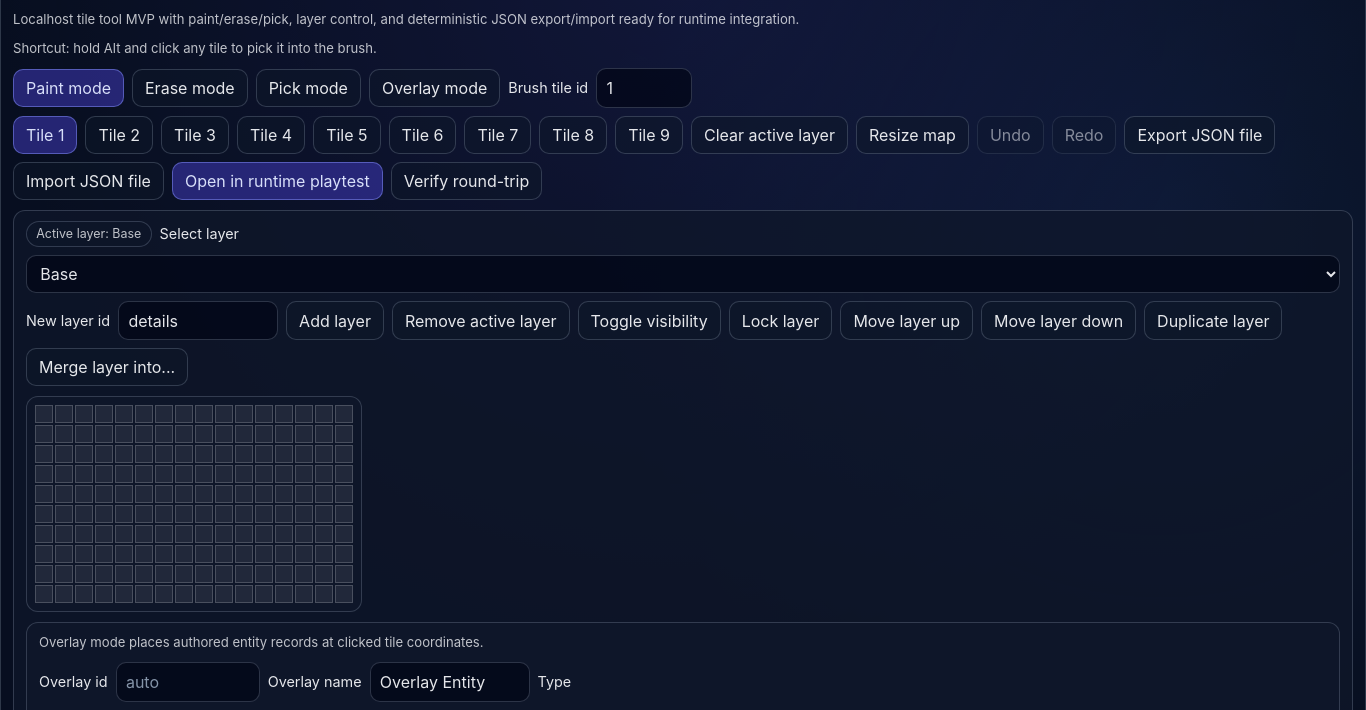
Test: TileMapPlacementToolExample › adds and removes beforeunload guard based on dirty state
The image size is (1366, 710).
Click the button named "Tile (0, 0)": (44, 414) [35, 405, 53, 423]
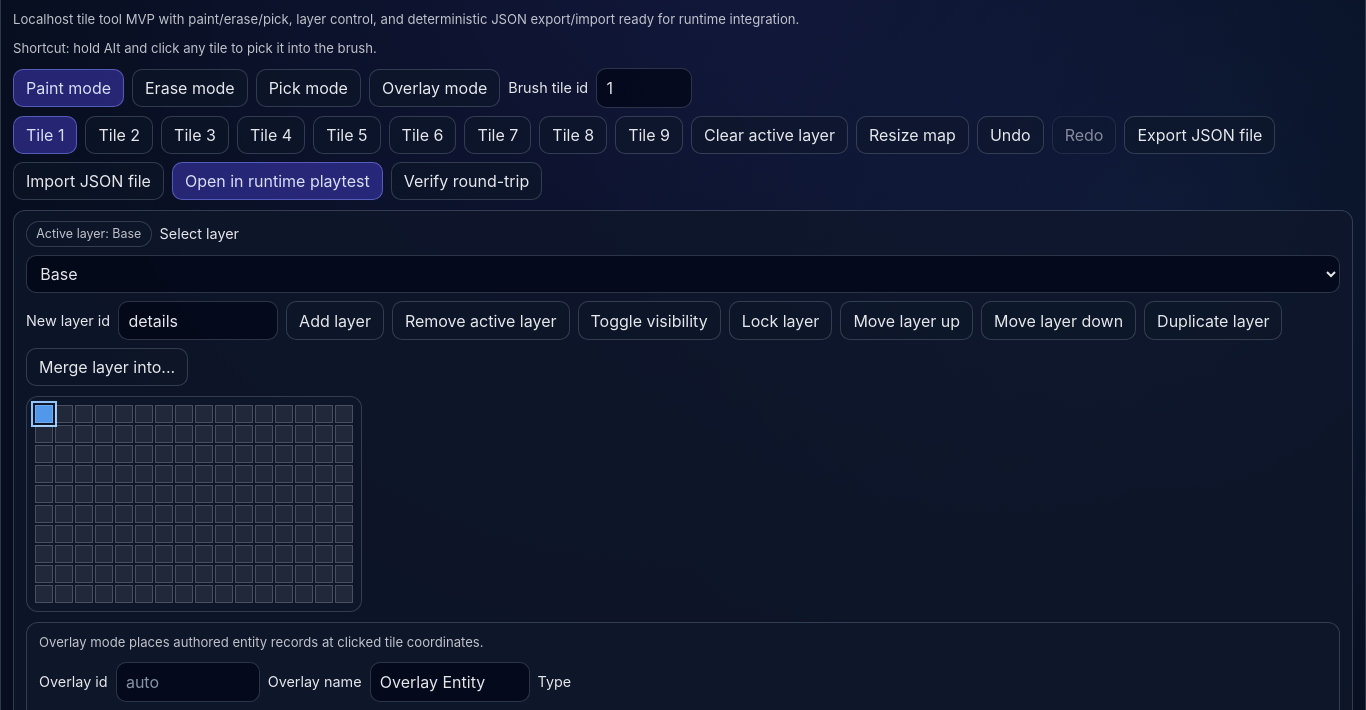
Click the button "Undo": (1010, 135) [977, 116, 1044, 154]
(page scrolled)
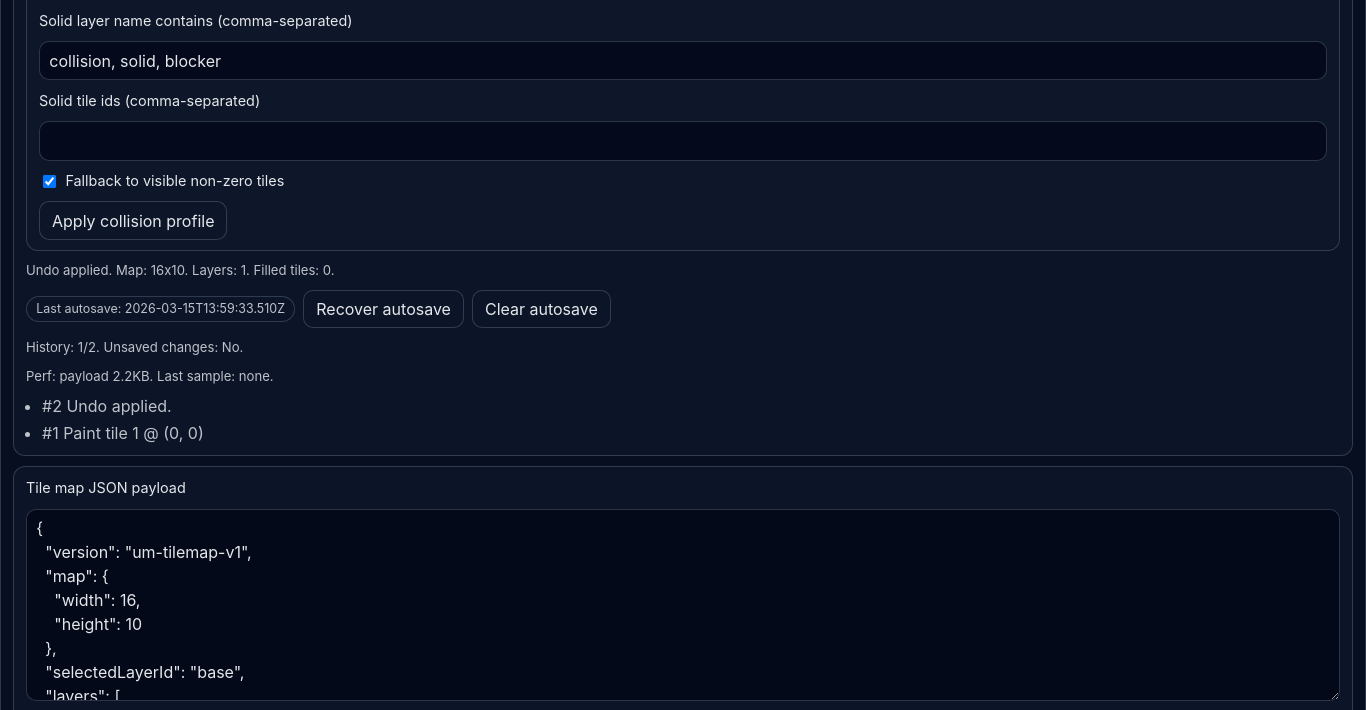
expect the text "History: 1/2. Unsaved changes: No." is shown: met, box [26, 339, 243, 355]
